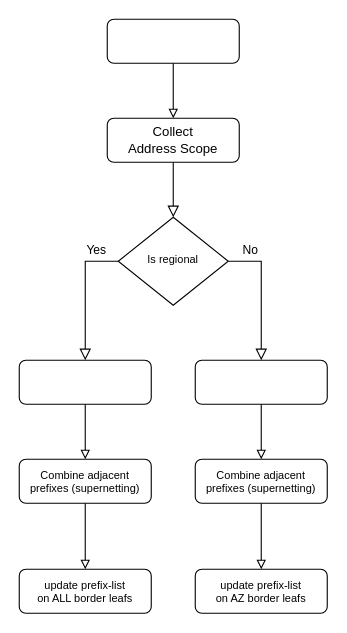
The diagram is 347 pixels wide and 633 high, and some of its shapes have lost their labels. The box of each missing label's shape, as (x1, y1, x2, y2) in pixels:
Collect ALL address scopes for VRF: (106, 18, 239, 63)
Collect All subnet pool prefixes: (18, 359, 151, 404)
Configure VLAN for Segment: (194, 359, 327, 404)
